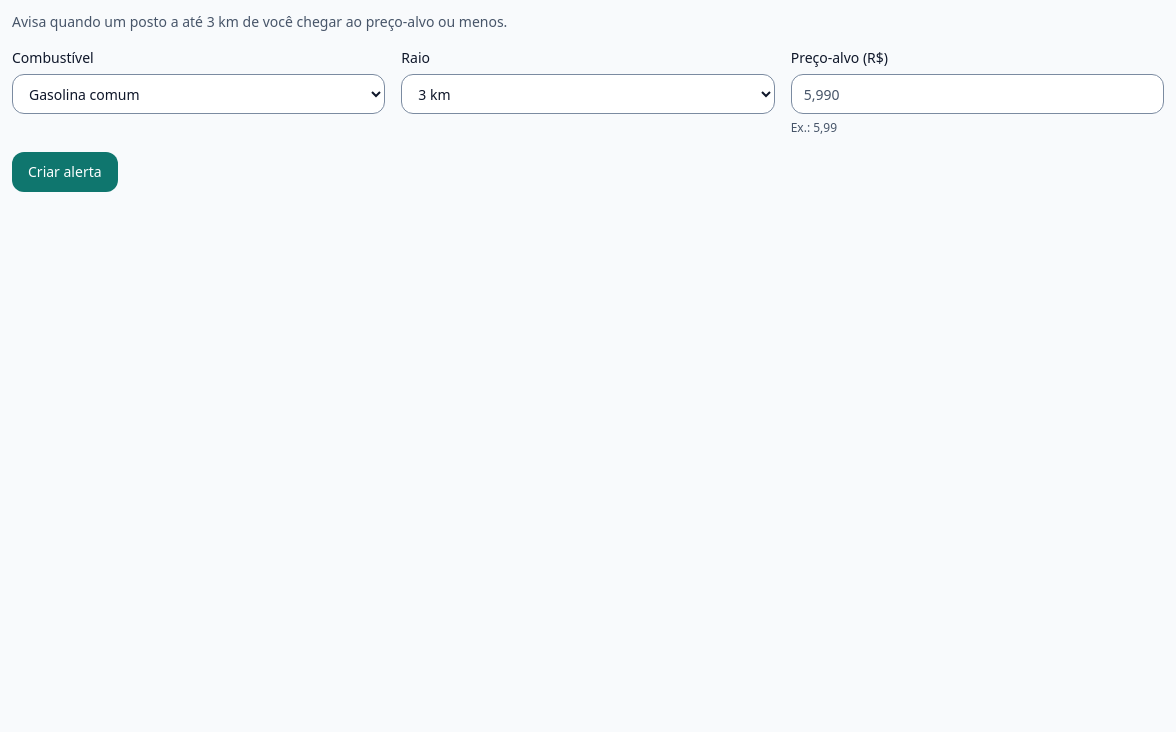
it: AlertForm › sends the alert in thousandths, centred on the position, and confirms with a toast
Select "Etanol" in the dropdown labelled "Combustível" at (199, 94), box [12, 74, 385, 114]
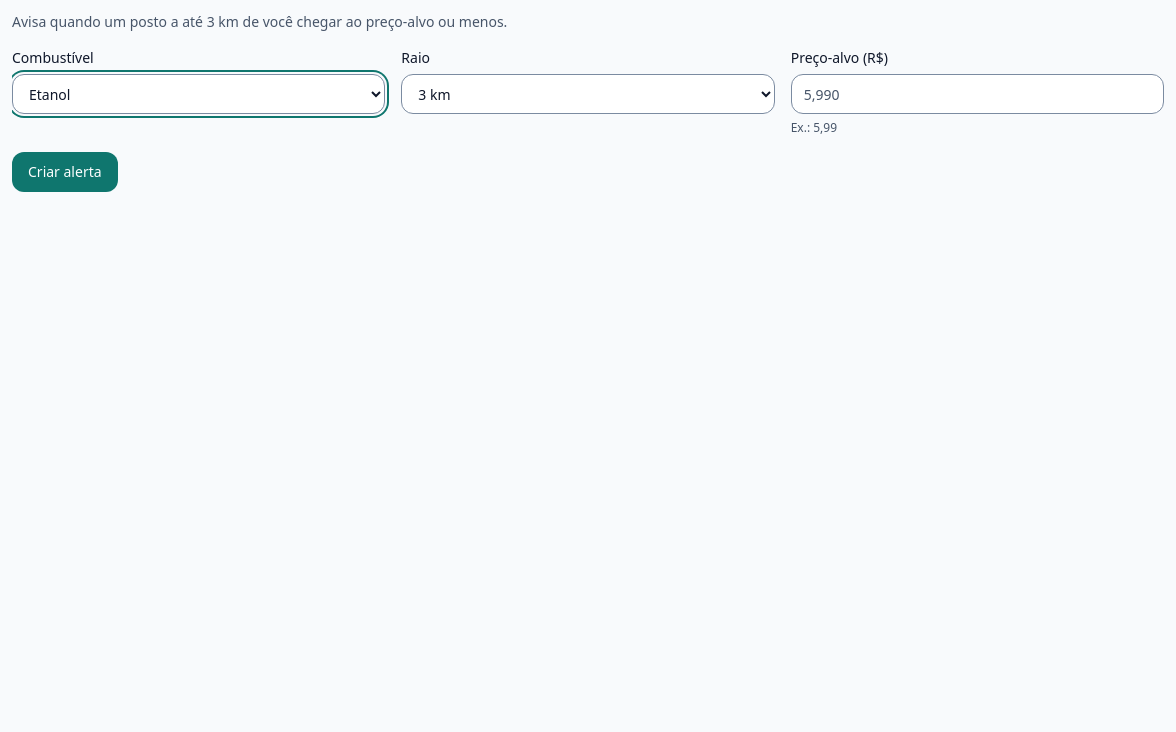
Select "5 km" in the dropdown labelled "Raio" at (588, 94), box [401, 74, 775, 114]
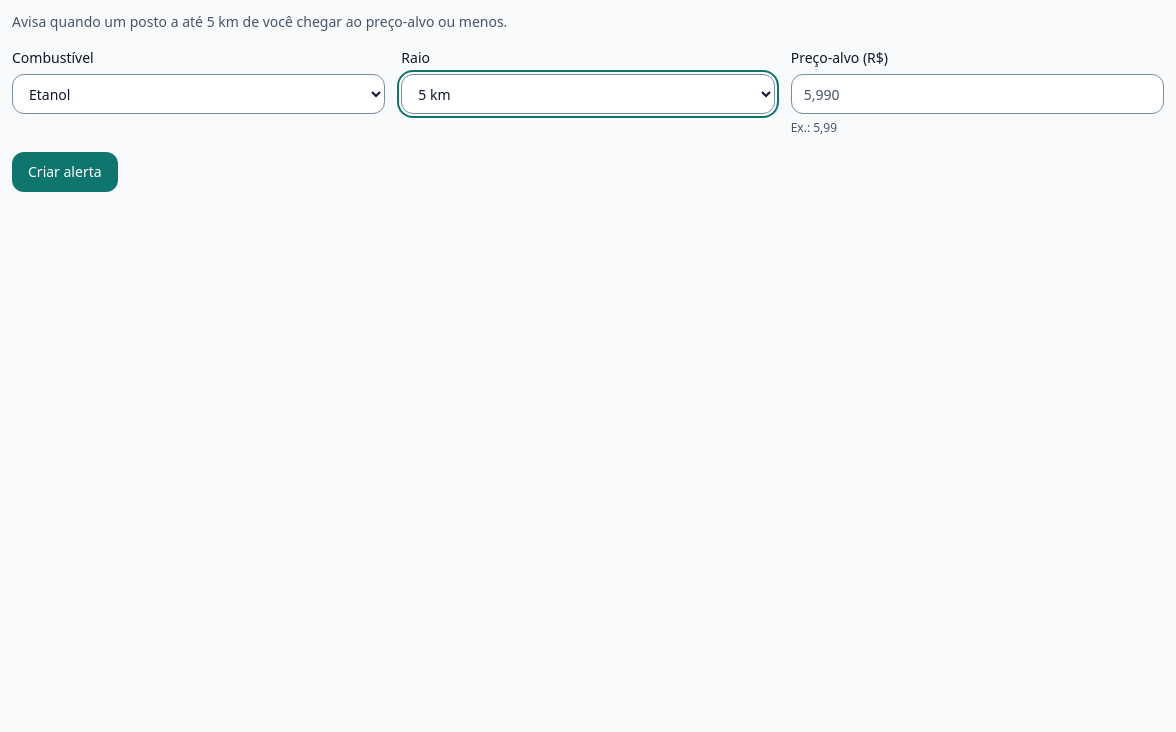
Type "4,49" into the field labelled "Preço-alvo (R$)" at (977, 94), box [791, 74, 1164, 114]
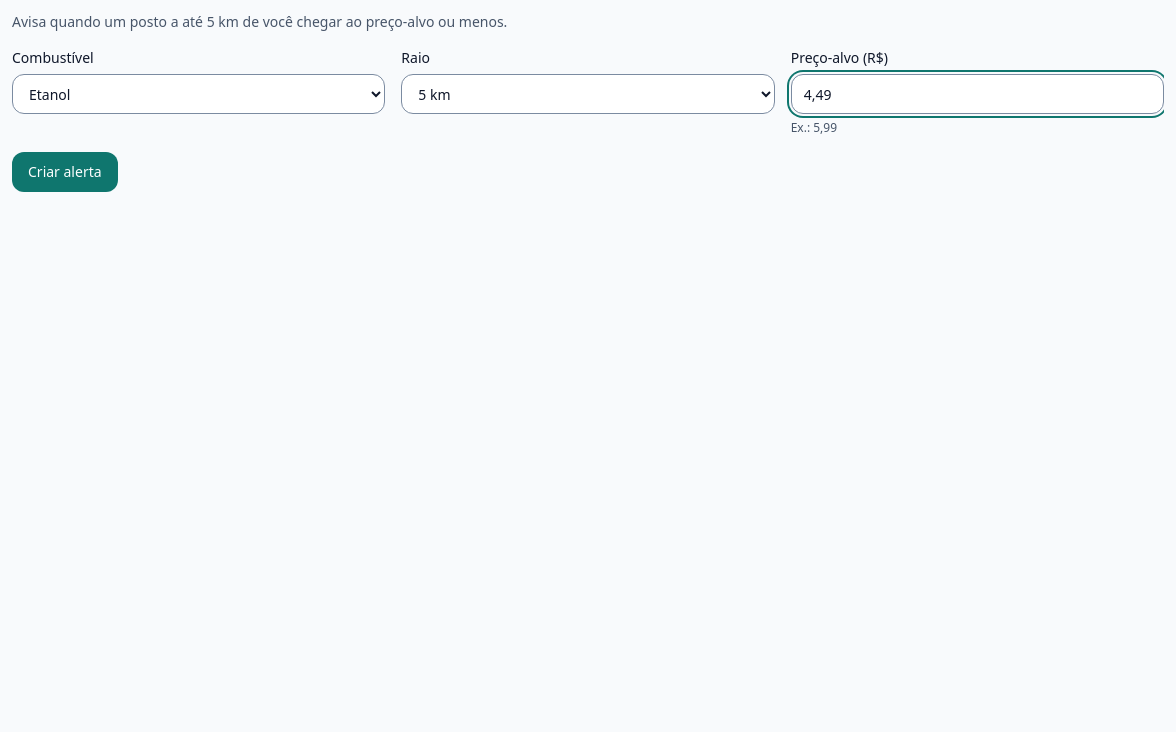
Click the button "Criar alerta" at (65, 172), box [12, 152, 118, 192]
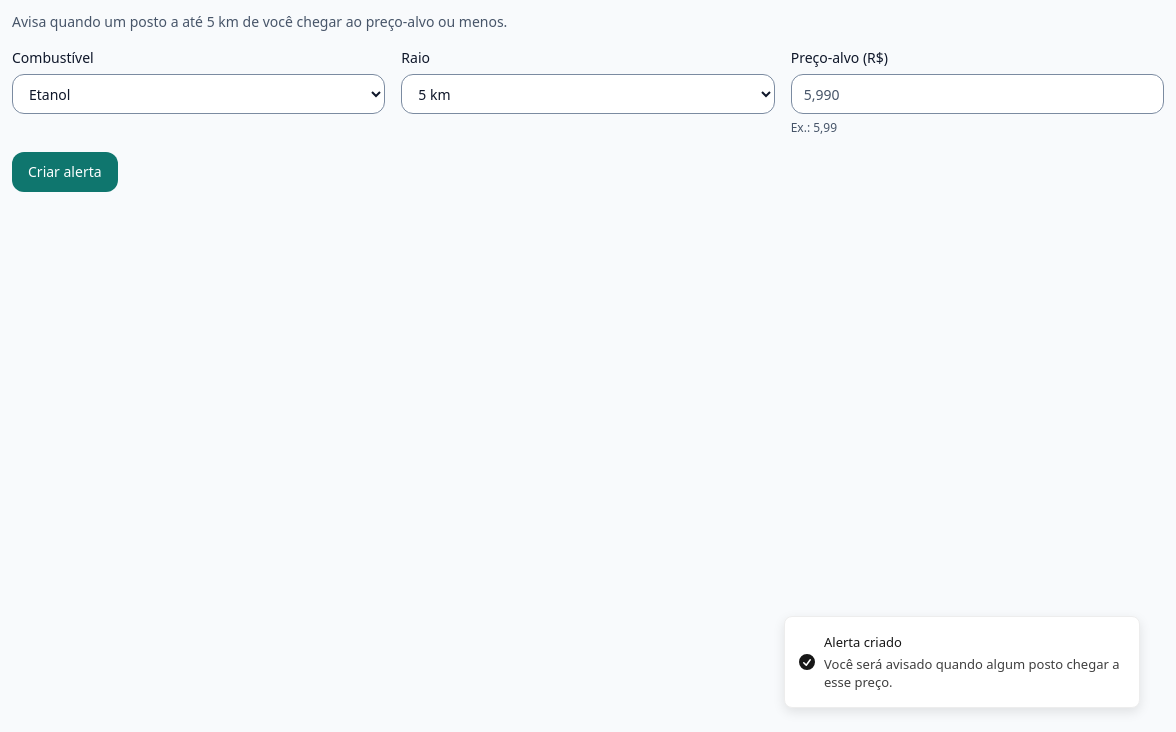
Check: the text "Alerta criado" is shown, box [824, 633, 902, 651]
